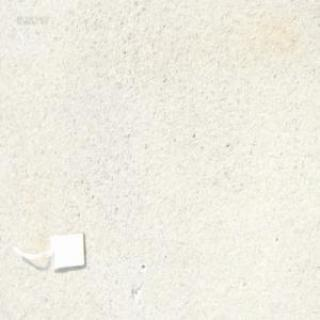LuggageTagtrack_idkeyframe: (11, 230, 88, 274)
